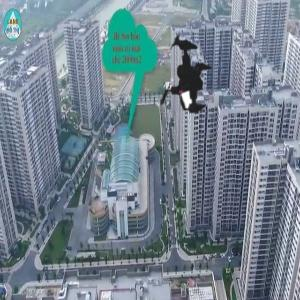drone: (121, 16, 243, 138)
